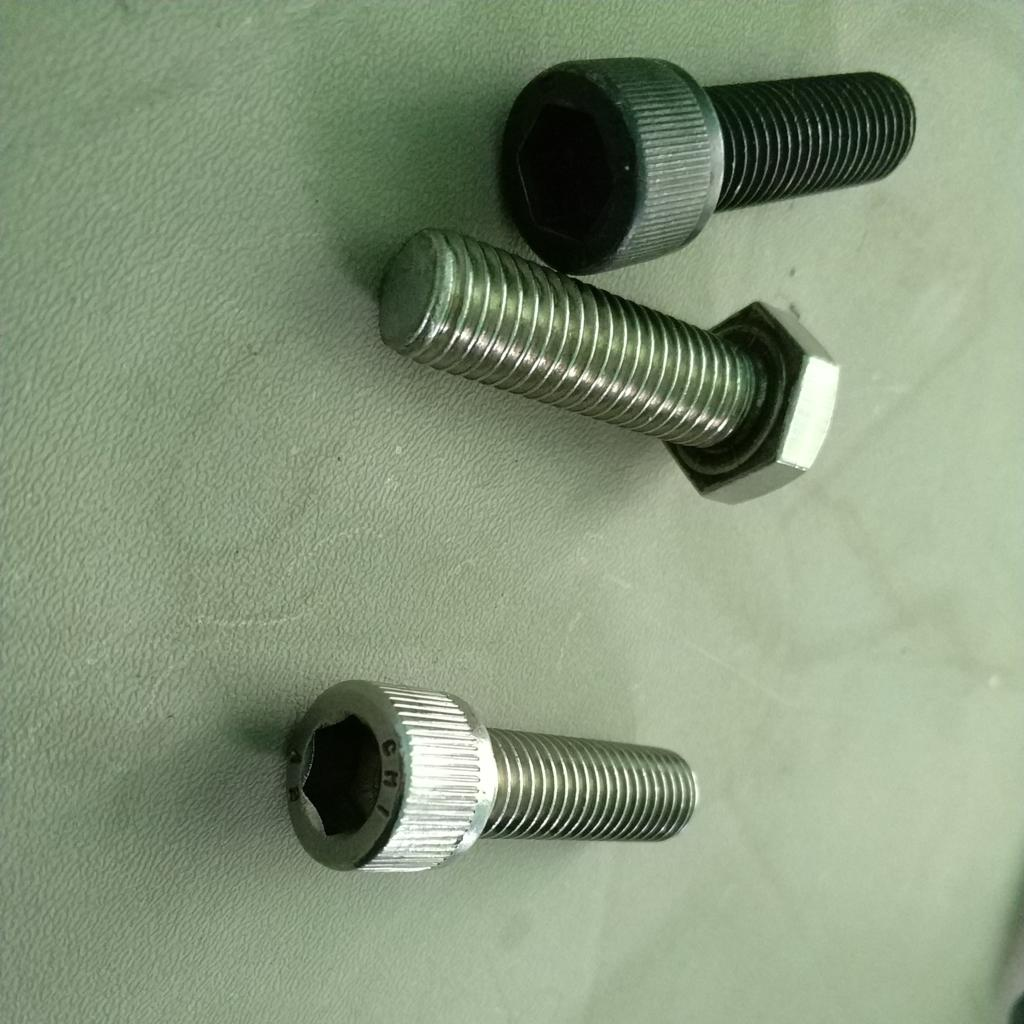screwtype1black: (484, 41, 921, 259)
screwtype1silver: (244, 652, 712, 895)
screwtype2silver: (374, 220, 849, 514)
